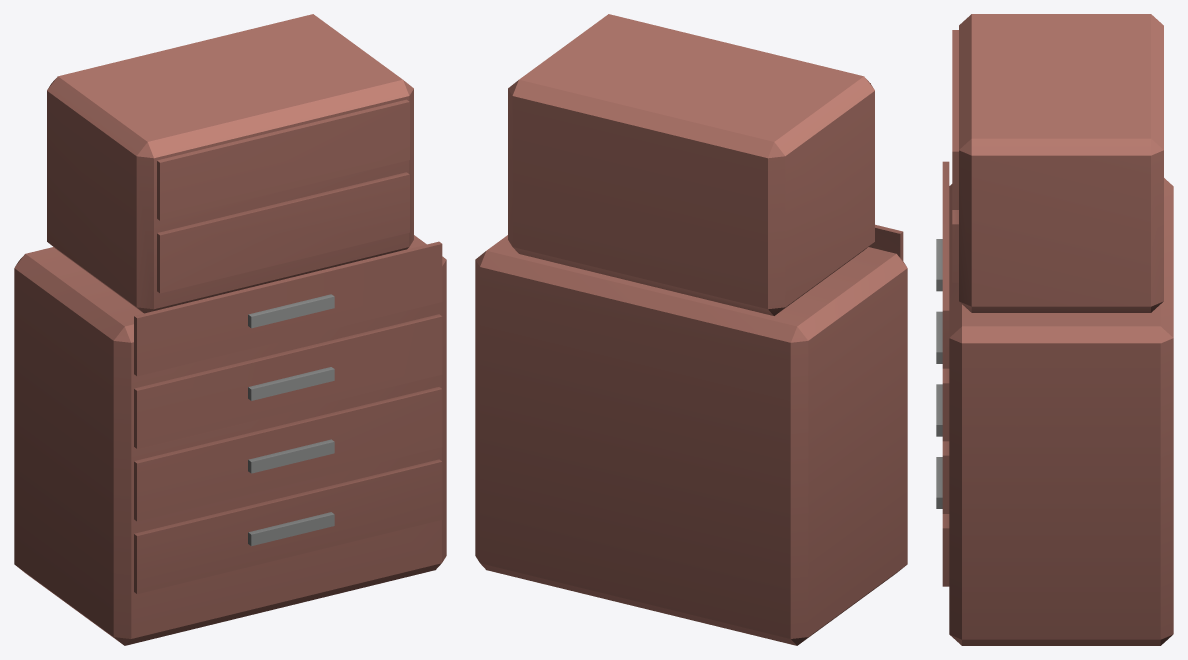
Rendered from int_cabinet.glb.
The picture shows the model from 3 angles, left to right: view 1: azimuth 30°, elevation 25°; view 2: azimuth 150°, elevation 25°; view 3: azimuth 270°, elevation 25°; orthographic projection.
Visible parts, largest first — view 1: int_cabinet; view 2: int_cabinet; view 3: int_cabinet.
Boxes of the visible parts, box(x1,y1,x2,y2) form: int_cabinet: box(14, 14, 446, 645); int_cabinet: box(475, 14, 907, 645); int_cabinet: box(936, 14, 1173, 645).
Size of the model in its own units: 1.2 by 1.7 by 0.74.
